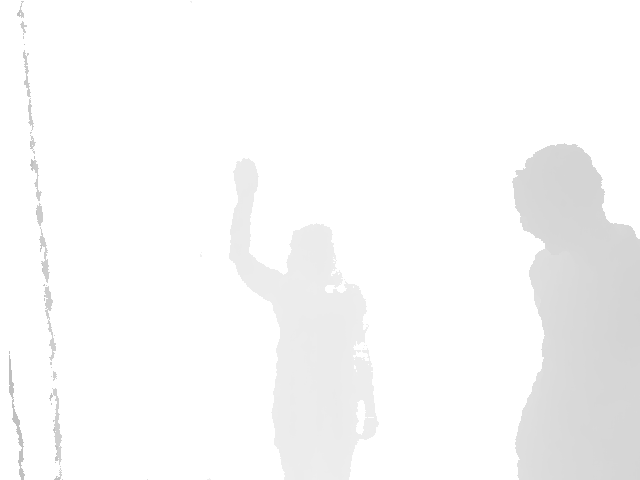hand: (231, 156, 259, 200)
head: (511, 143, 607, 256), (286, 222, 337, 290)
person: (228, 156, 380, 479), (511, 143, 640, 480)
